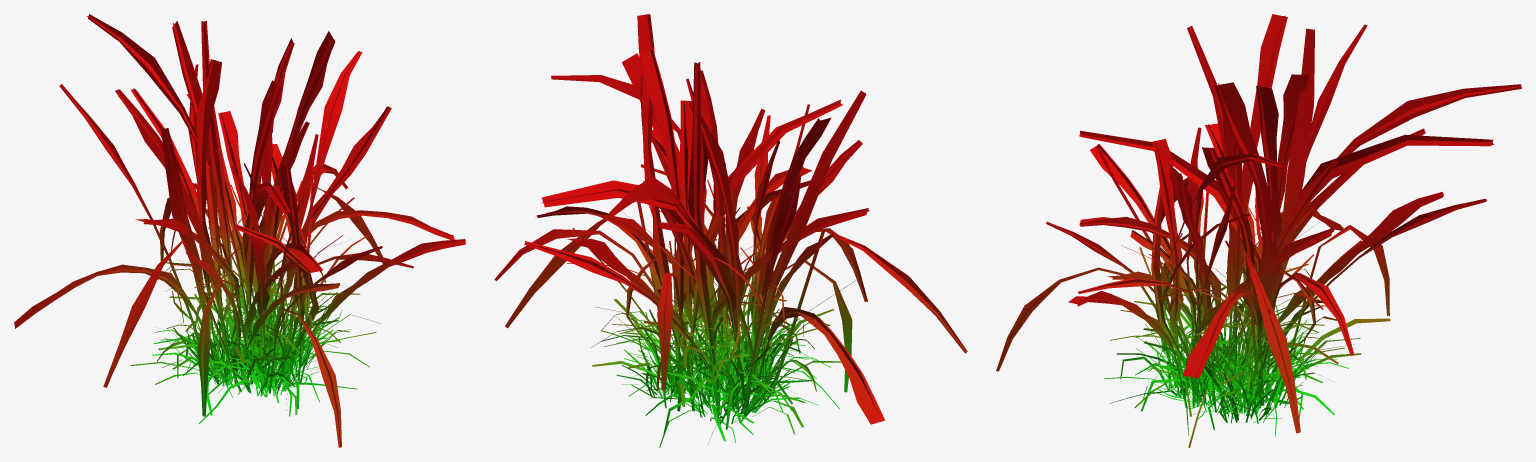
Rendered from Var1_LOD2.fbx.
3 renders of one model, left to right at view 1: azimuth 30°, elevation 25°; view 2: azimuth 150°, elevation 25°; view 3: azimuth 270°, elevation 25°, orthographic. The views are drawn at different scales.
Visible parts, largest first — view 1: Var1_LOD2; view 2: Var1_LOD2; view 3: Var1_LOD2.
Boxes of the visible parts, x1,y1,x2,y2 form: Var1_LOD2: (14, 14, 465, 447); Var1_LOD2: (494, 14, 967, 447); Var1_LOD2: (996, 14, 1521, 447).
Bounding box in the file's own units: 73.12 × 66.02 × 81.36.
